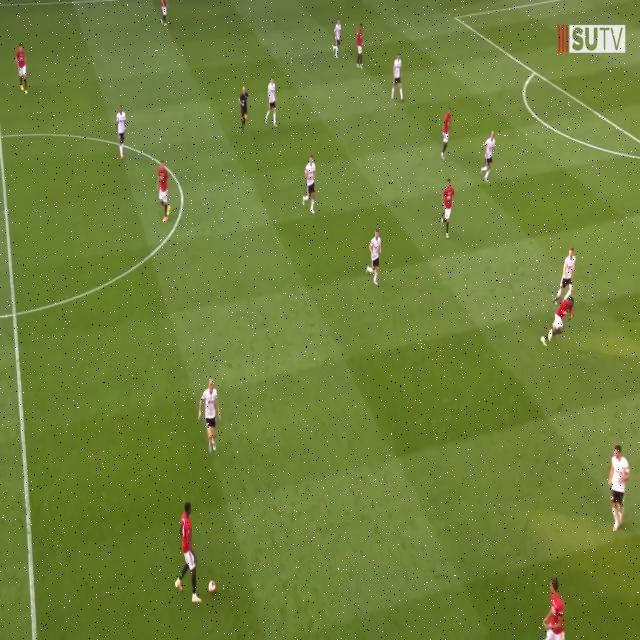Ball: (203, 570, 220, 598)
TEAM 1: (170, 502, 203, 605), (538, 294, 576, 347), (541, 579, 567, 640), (153, 156, 173, 229), (441, 177, 458, 248), (441, 98, 457, 162), (356, 14, 368, 70), (17, 42, 30, 93), (160, 0, 171, 27)
TEAM 2: (605, 446, 634, 534), (199, 376, 224, 454), (558, 245, 581, 301), (110, 106, 131, 164), (368, 230, 385, 289), (304, 157, 319, 218), (391, 51, 406, 110), (263, 74, 278, 129), (481, 131, 496, 184), (335, 22, 343, 61)
